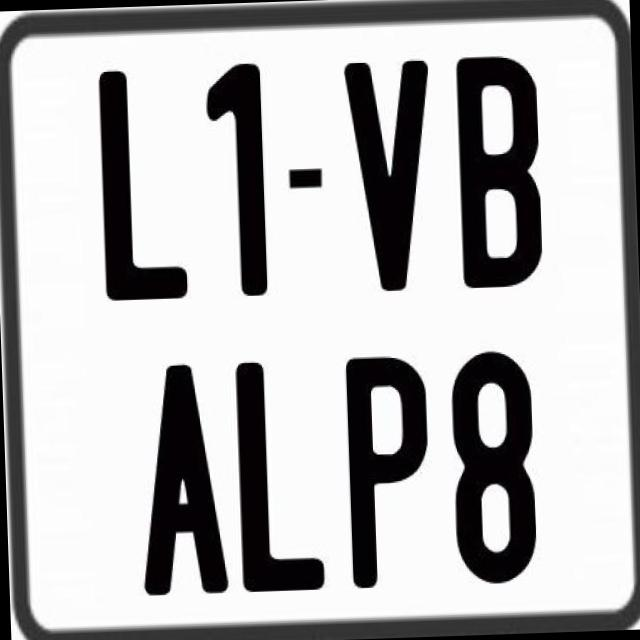1: (203, 58, 266, 298)
8: (446, 350, 534, 588)
A: (135, 364, 229, 598)
B: (454, 51, 546, 293)
L: (233, 360, 331, 598), (96, 64, 192, 302)
P: (346, 354, 432, 592)
V: (339, 57, 435, 295)
